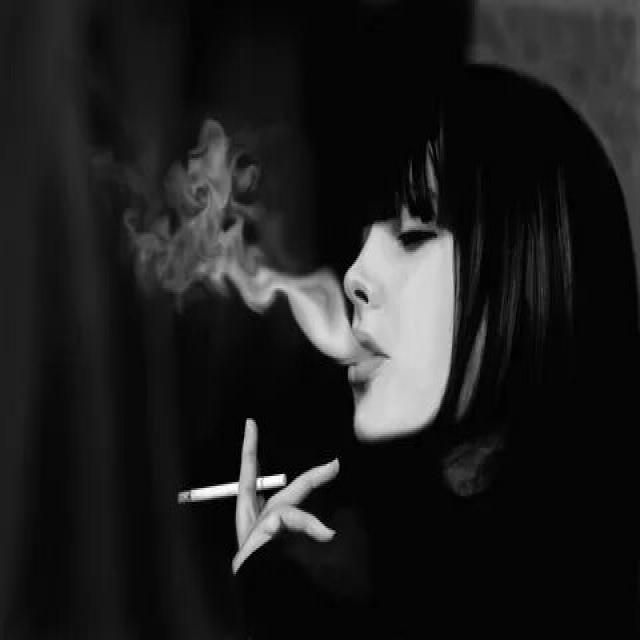cigarette: (173, 470, 290, 510)
